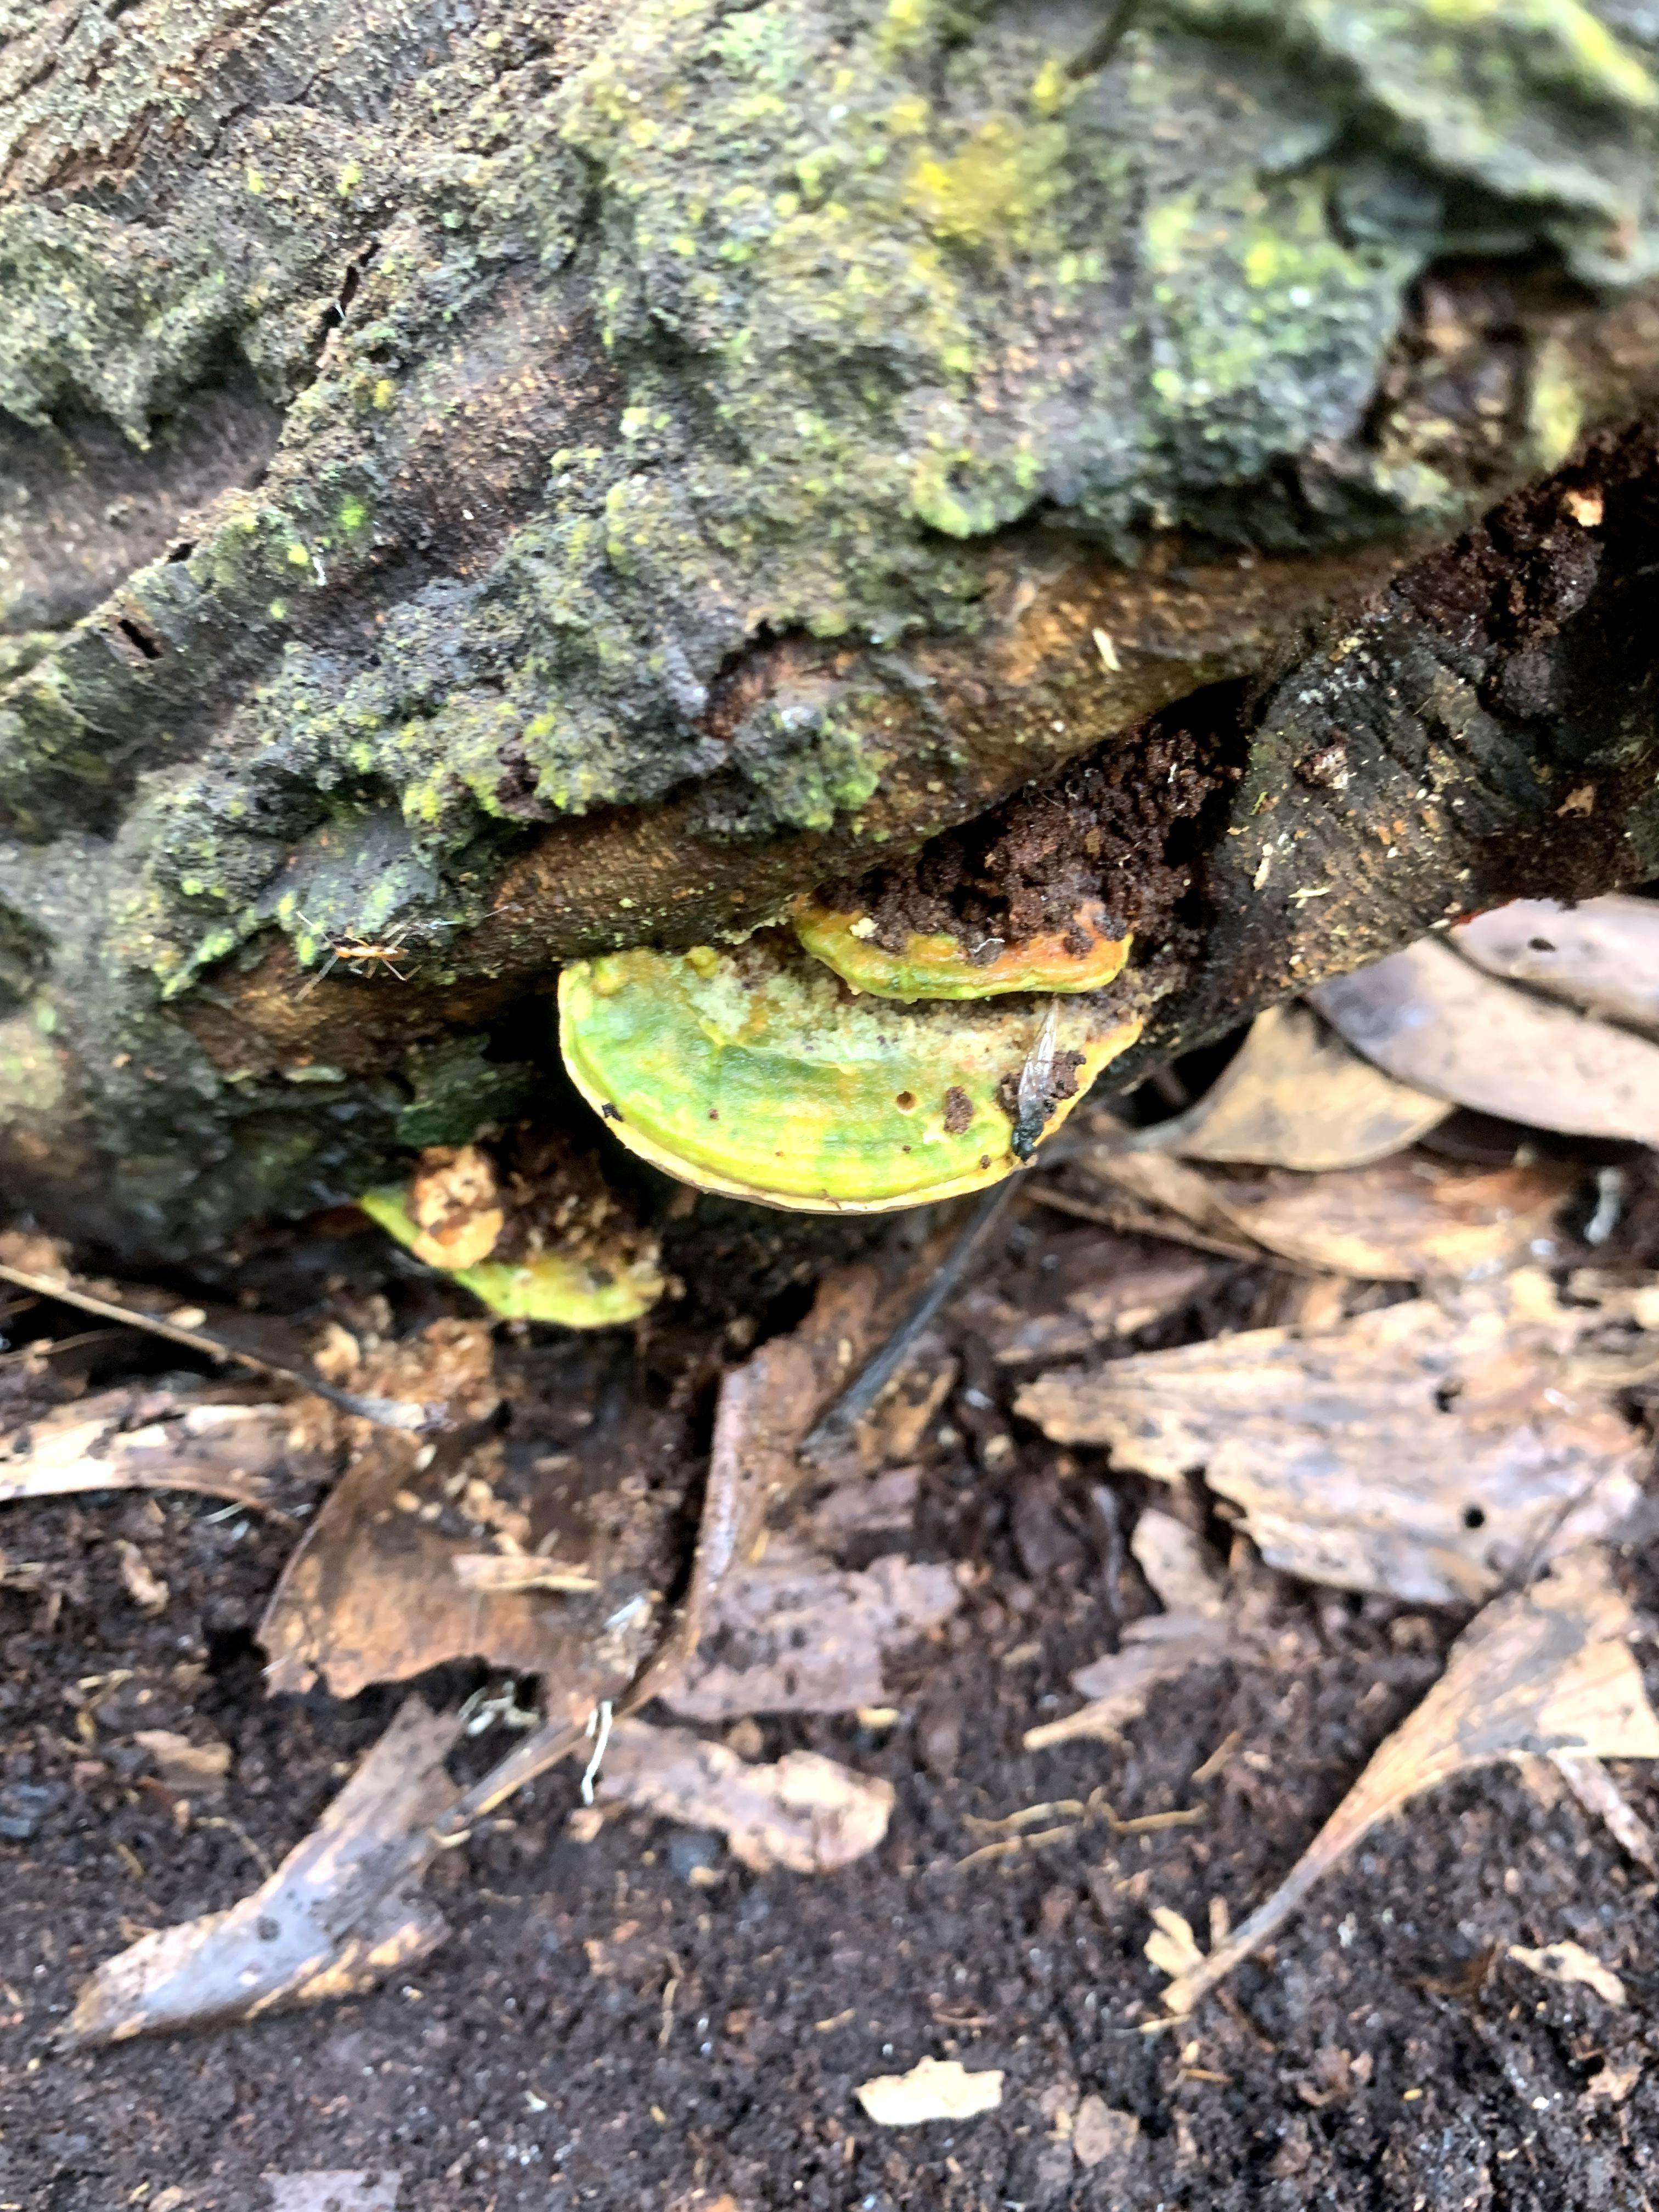Ganoderma - Fruit Body: (525, 862, 1169, 1233)
